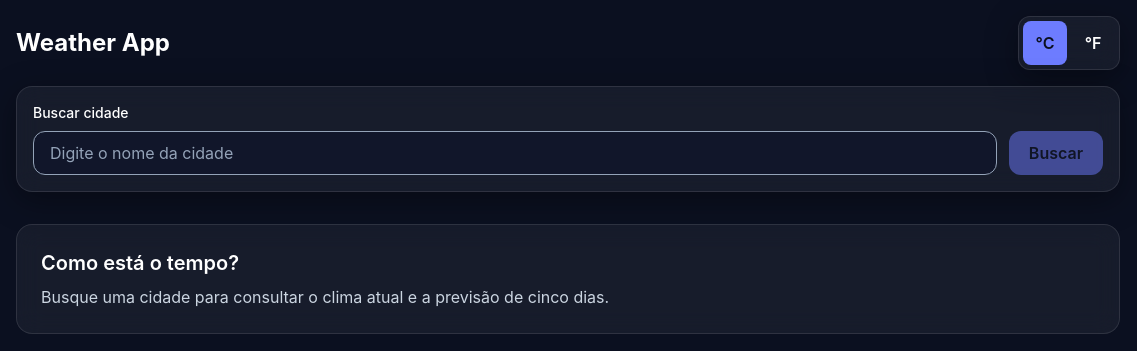
não oferece retry para erro permanente
Type "Cidade" into the search field. click: [515, 153]
box: [33, 131, 997, 175]
Then press Enter
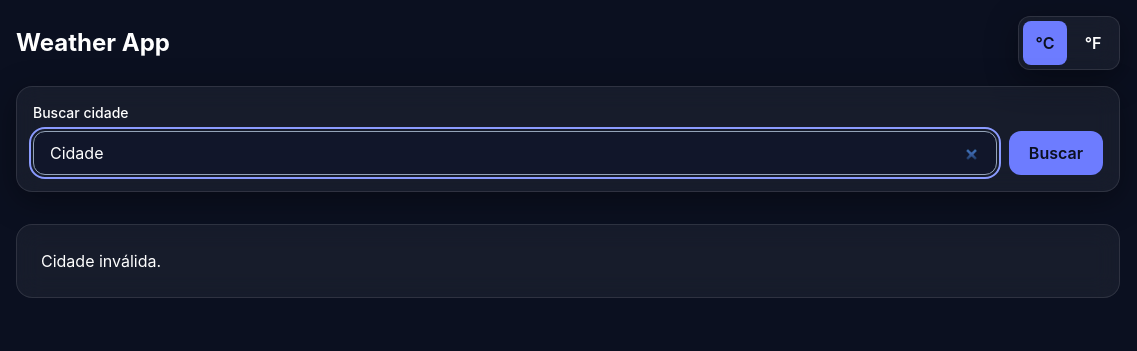
Expected: the message reads "Cidade inválida.", [41, 251, 161, 271]
